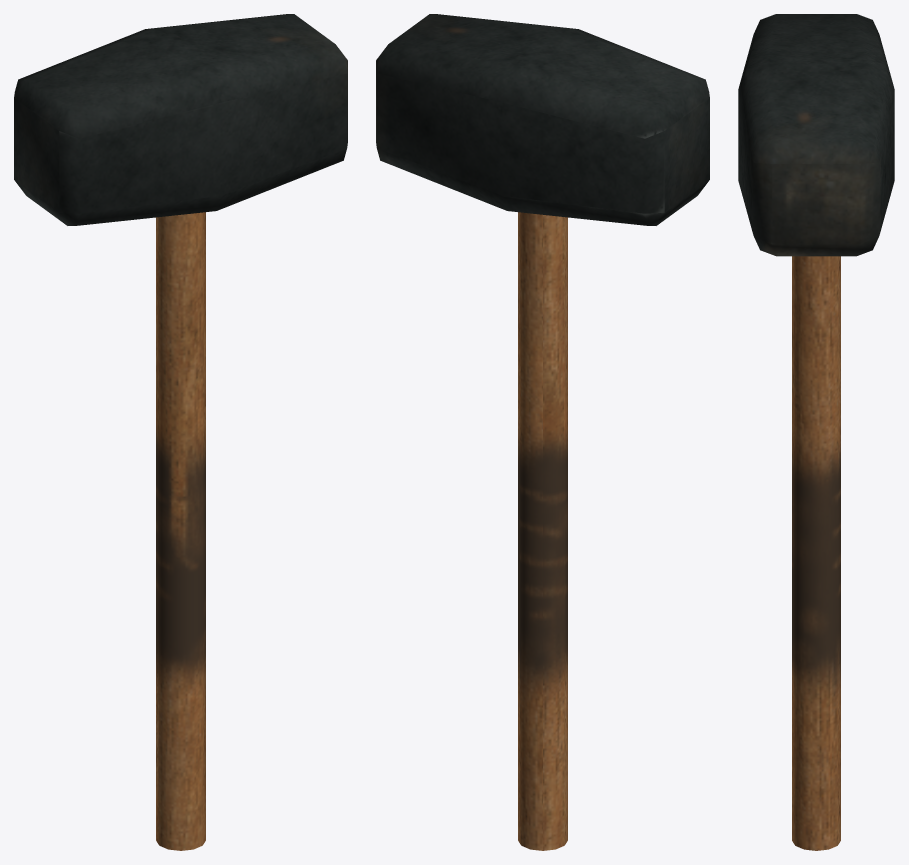
File: FarmEquip_Hammer.fbx
3 renders of one model, left to right at view 1: azimuth 30°, elevation 25°; view 2: azimuth 150°, elevation 25°; view 3: azimuth 270°, elevation 25°, orthographic. The views are drawn at different scales.
Parts seen in each view (by area): view 1: FarmEquip_Hammer; view 2: FarmEquip_Hammer; view 3: FarmEquip_Hammer.
Boxes of the visible parts, x1=… form: FarmEquip_Hammer: x1=14, y1=14, x2=347, y2=850; FarmEquip_Hammer: x1=376, y1=14, x2=709, y2=850; FarmEquip_Hammer: x1=738, y1=14, x2=894, y2=850.
Bounding box in the file's own units: 0.2058 × 0.54 × 0.0986.
